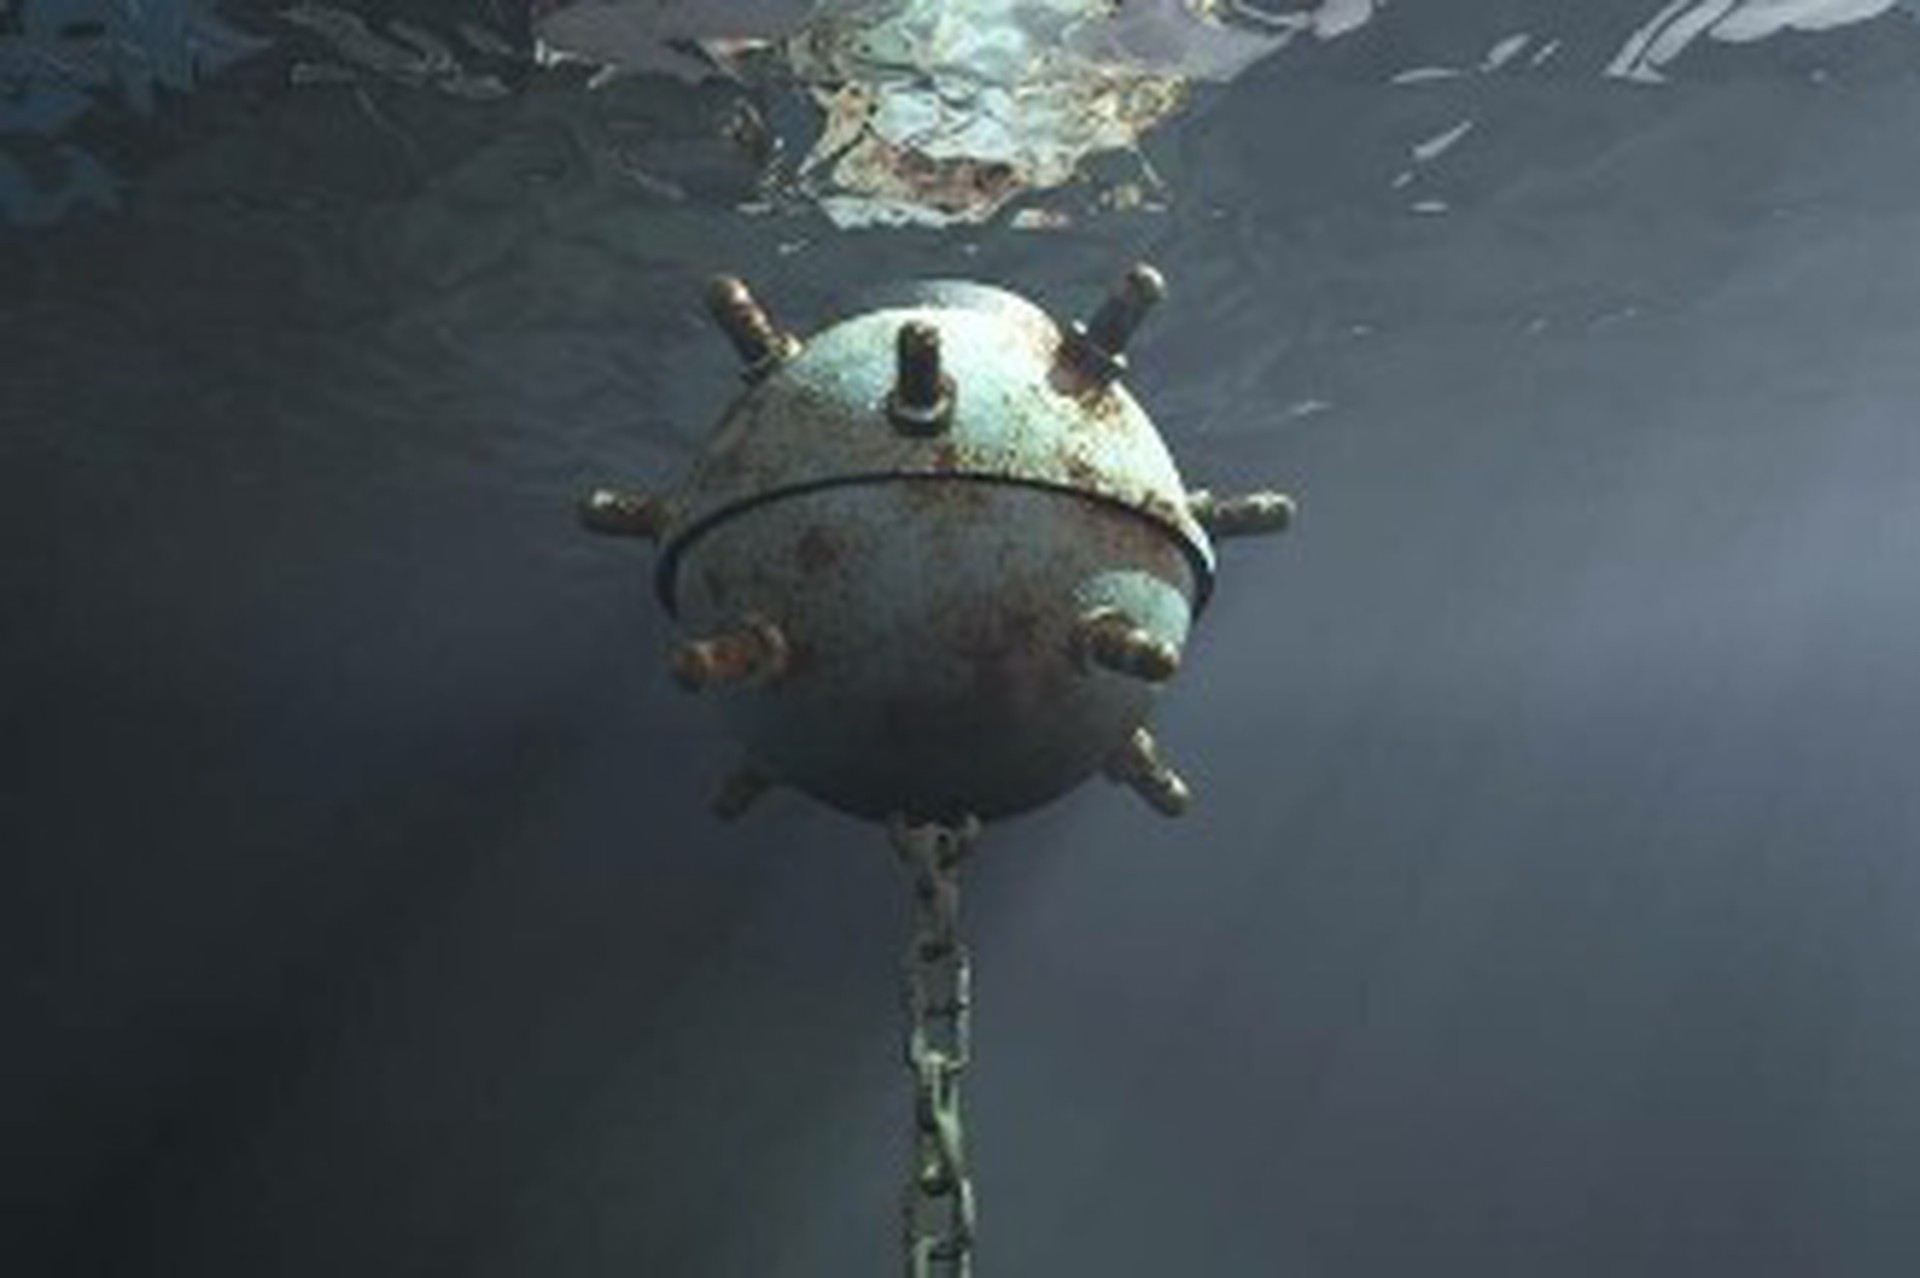Mines: (581, 257, 1307, 877)
